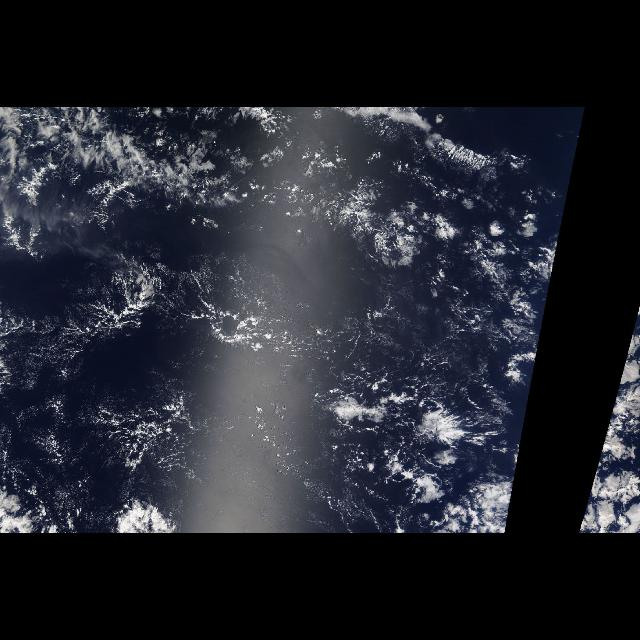Sugar: (15, 209, 319, 475)
